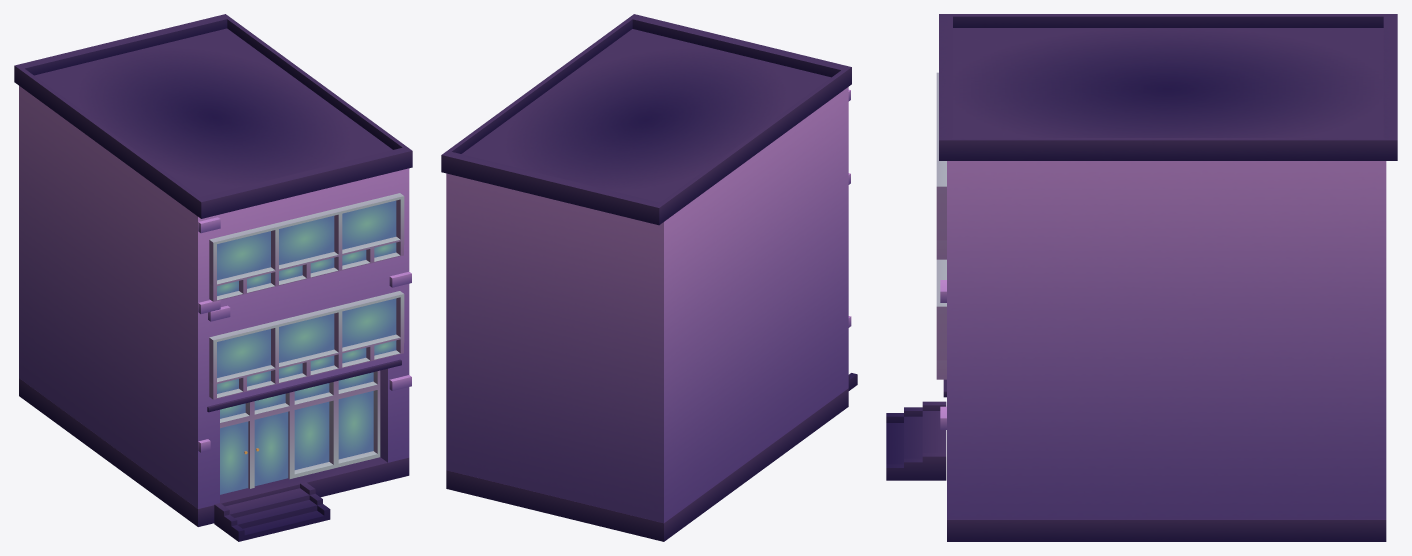
3 renders of one model, left to right at view 1: azimuth 30°, elevation 25°; view 2: azimuth 150°, elevation 25°; view 3: azimuth 270°, elevation 25°, orthographic. The views are drawn at different scales.
Visible parts, largest first — view 1: SM_3F_L_01; view 2: SM_3F_L_01; view 3: SM_3F_L_01.
Boxes of the visible parts, left/top/right/bottom form: SM_3F_L_01: left=14, top=14, right=412, bottom=541; SM_3F_L_01: left=441, top=14, right=857, bottom=541; SM_3F_L_01: left=886, top=14, right=1397, bottom=541.
Size of the model in its own units: 7.71 by 13.17 by 11.44.
